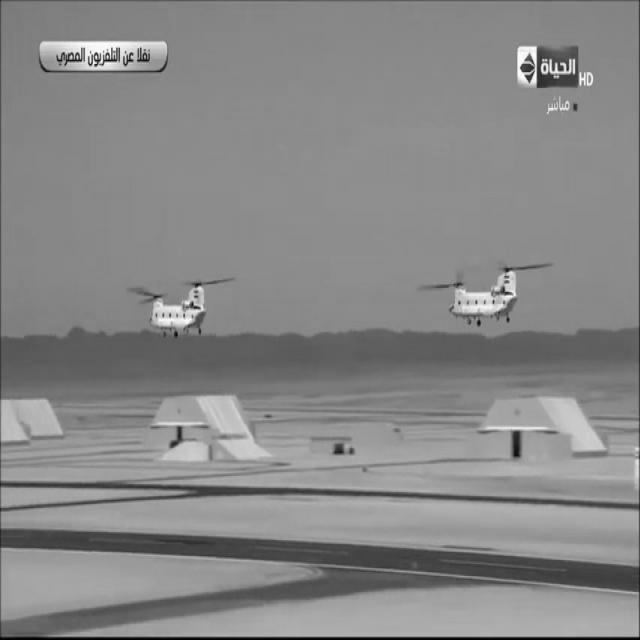helikopter: (436, 245, 530, 344), (134, 270, 230, 356)
